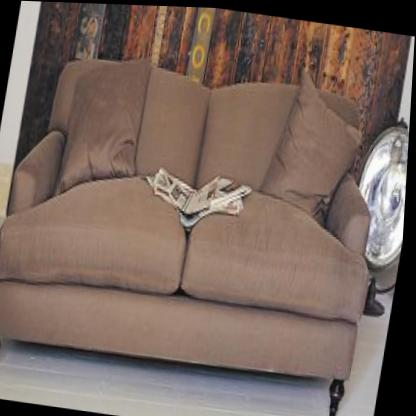Sofa: (0, 37, 407, 416)
